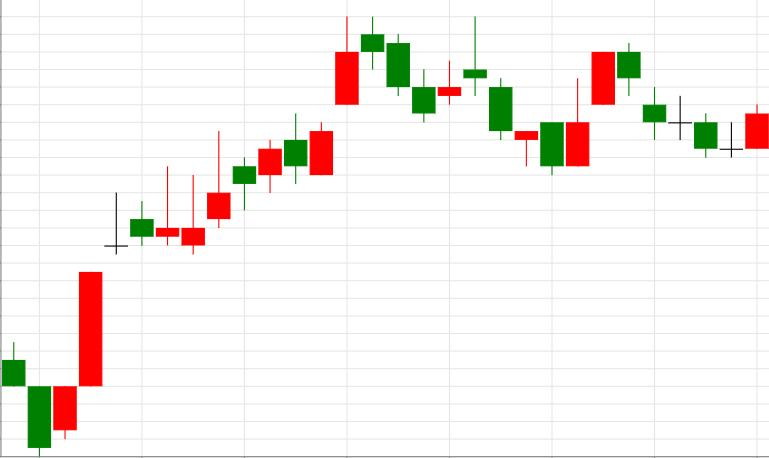evening_star_fall: (182, 15, 409, 255)
